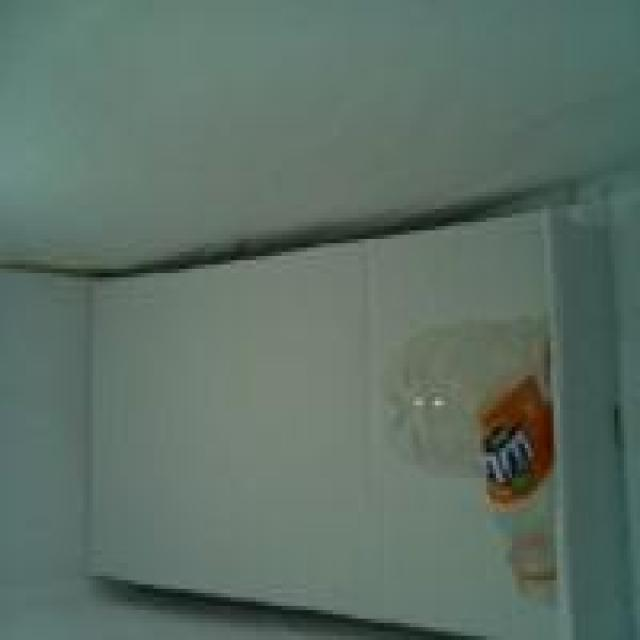bottle: (362, 301, 597, 635)
